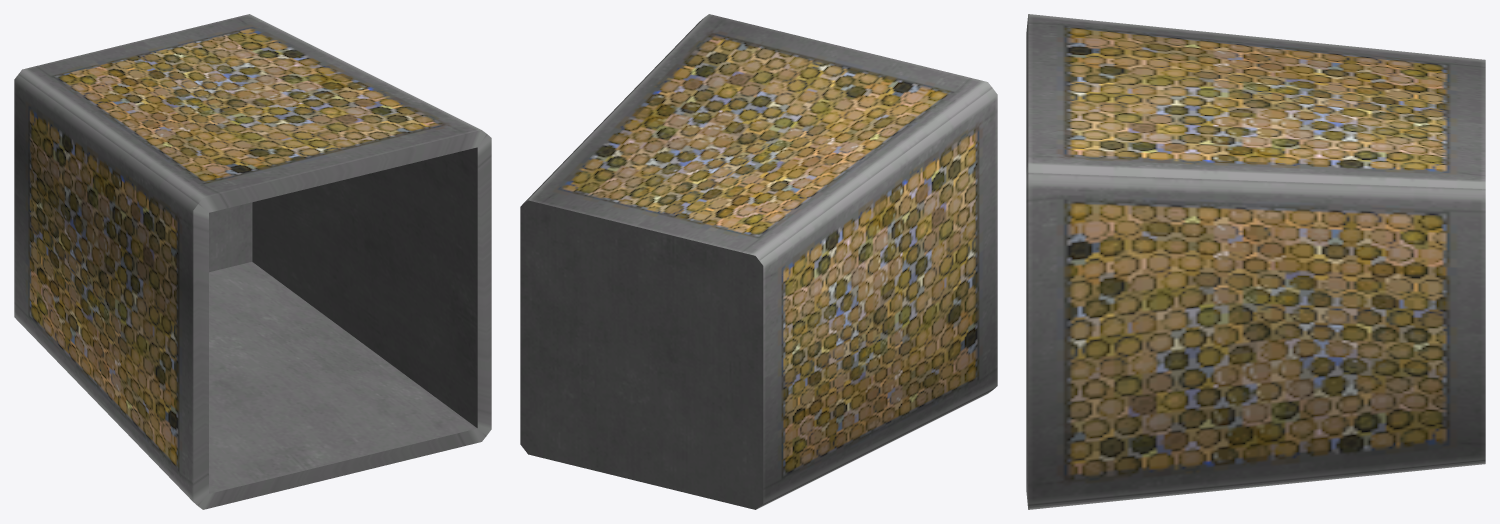
Rendered from nt_2020_planter01_LOD0.obj.
3 views of the same model, side by side, from view 1: azimuth 30°, elevation 25°; view 2: azimuth 150°, elevation 25°; view 3: azimuth 270°, elevation 25° (orthographic). The views are drawn at different scales.
Visible parts, largest first — view 1: mtl_nt_2020_planter01; view 2: mtl_nt_2020_planter01; view 3: mtl_nt_2020_planter01.
Boxes of the visible parts, bbox=[...] form: mtl_nt_2020_planter01: bbox=[14, 14, 491, 509]; mtl_nt_2020_planter01: bbox=[520, 14, 997, 509]; mtl_nt_2020_planter01: bbox=[1026, 14, 1485, 509].
Size of the model in its own units: 37.42 by 37.42 by 45.11.
